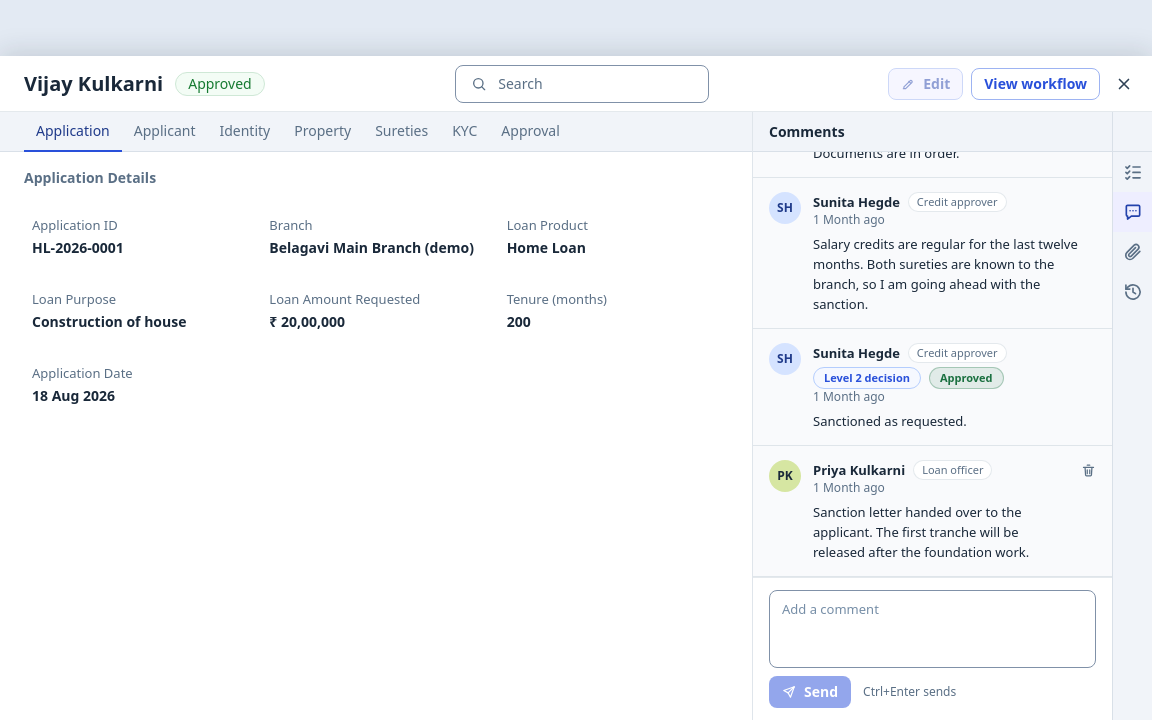
Scenario: the panel › is the Audit Log: its title, the filter chips in order, and All is on
(page scrolled)
Click the button named "Audit Log": (1132, 292) [1113, 272, 1151, 312]
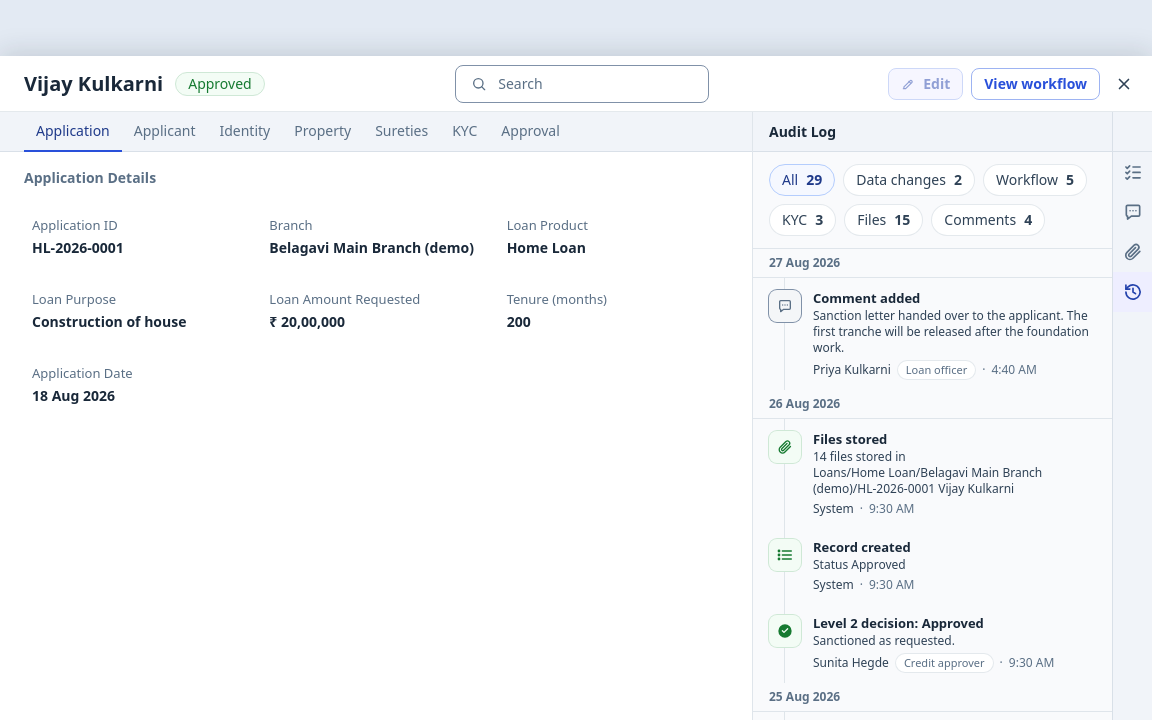
Expected: the heading "Audit Log" is shown, [769, 122, 836, 142]
